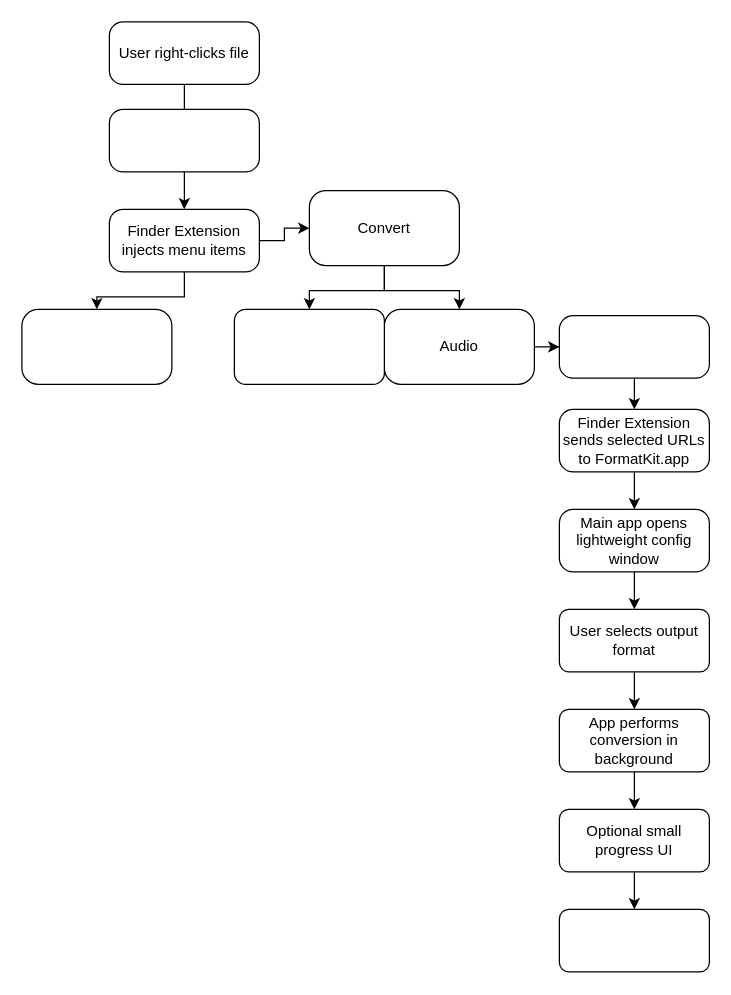
The diagram is 731 pixels wide and 995 high, and some of its shapes have lost their labels. The shapes that lost their labels are listed below. From the top down, each one's box as (x1, y1, x2, y2) in pixels, then its label:
(108, 108, 259, 172): Finder Extension evaluates selection
(21, 308, 172, 384): Compress
(233, 308, 384, 384): Video
(558, 314, 709, 378): User clicks “Convert”
(558, 908, 709, 972): Files written next to originals
